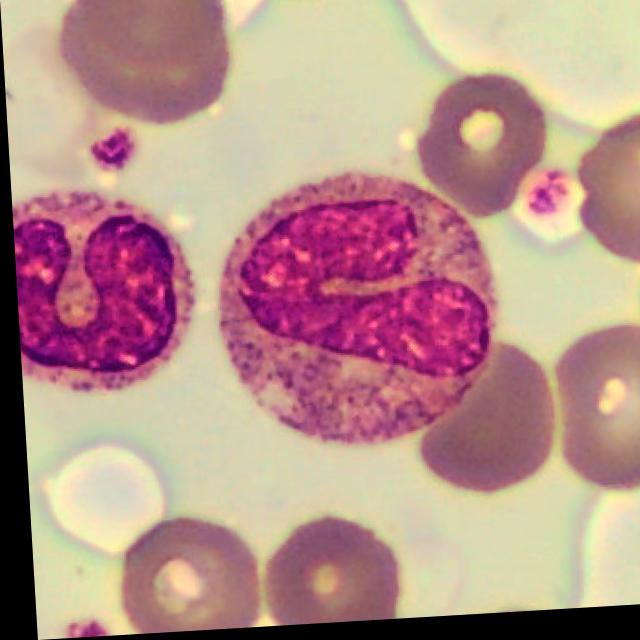Bastonete: (213, 173, 496, 447)
